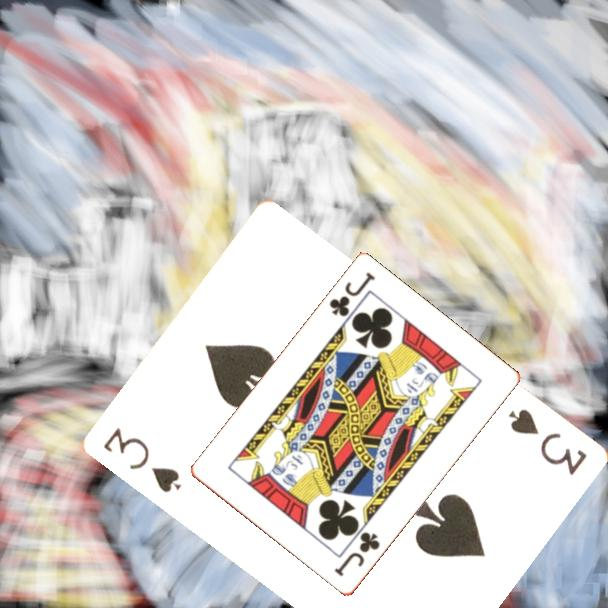c11: (330, 529, 383, 580), (326, 269, 378, 320)
s03: (504, 405, 589, 479), (98, 424, 184, 496)
